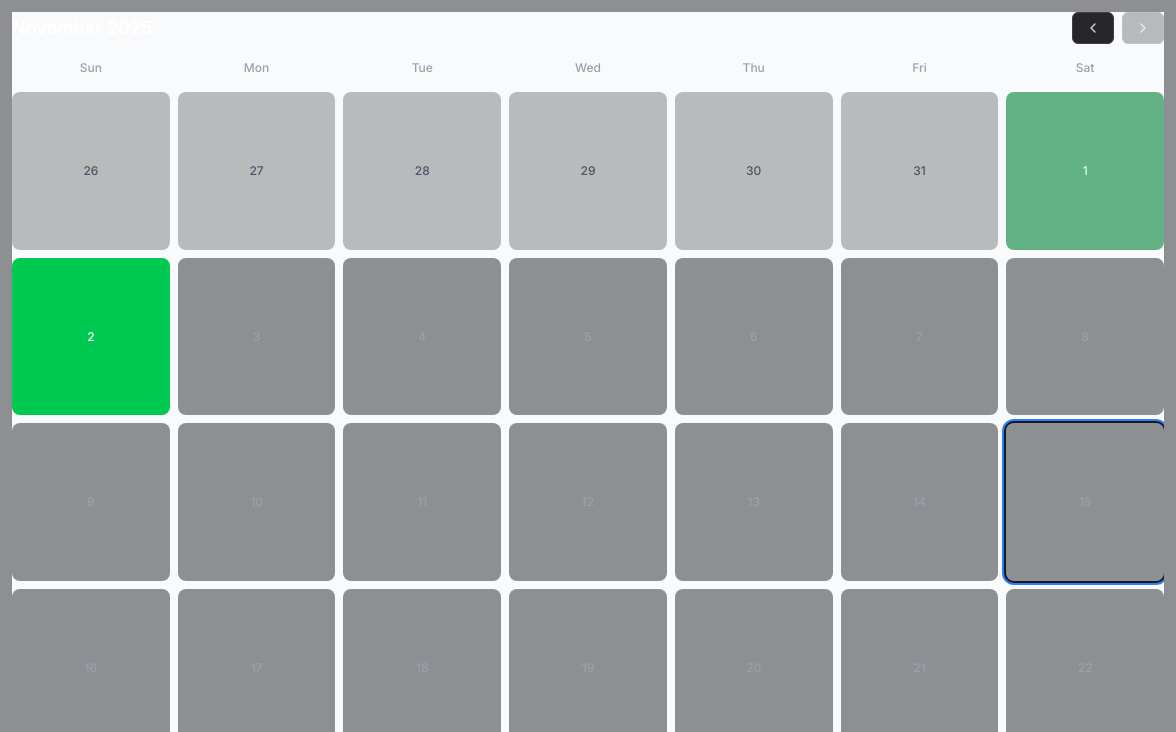
Test case: HabitCalendarHeatmap › shows "Today" button when not on current month
Navigate to previous month
Click the button named "chevron-left" at (1093, 28), box left=1072, top=12, right=1114, bottom=44
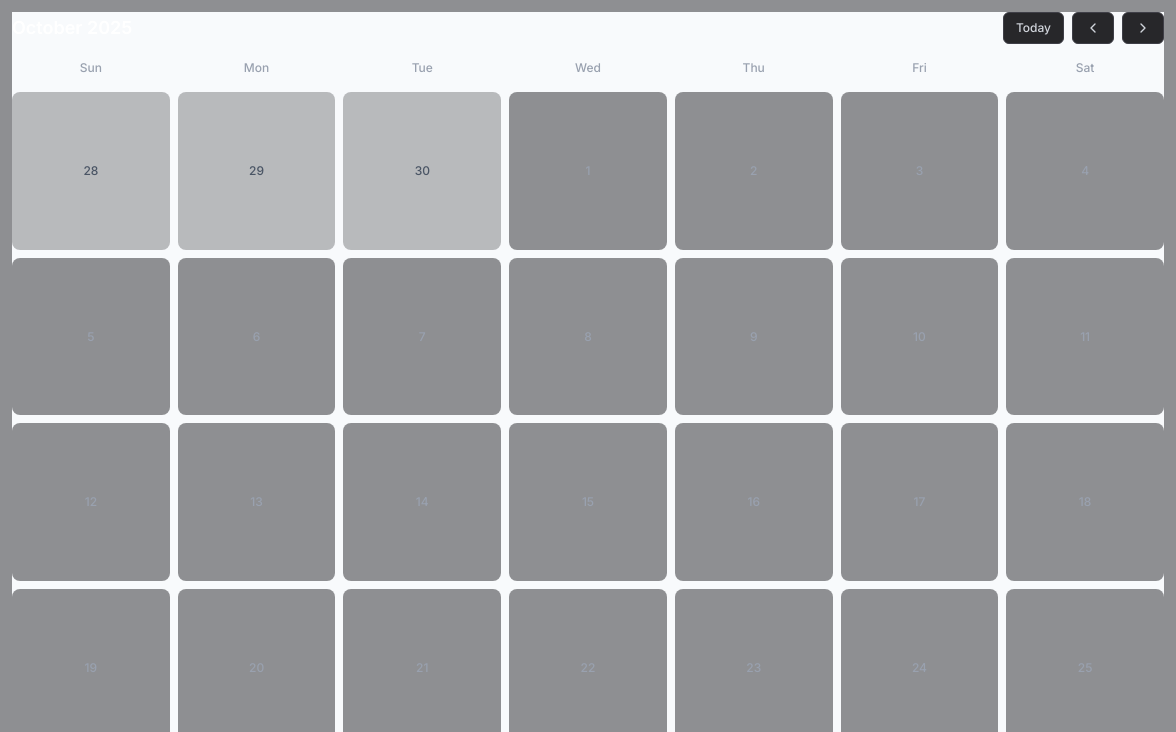
expect the button "Today" is shown: met, box left=1003, top=12, right=1064, bottom=44
